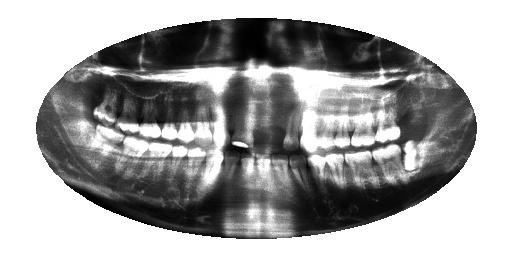i10chipped: (222, 148, 242, 199)
i11healthy: (202, 150, 225, 197)
i12healthy: (182, 145, 208, 202)
i13healthy: (164, 143, 190, 195)
i14healthy: (145, 141, 174, 191)
i15healthy: (119, 135, 150, 183)
i16healthy: (91, 125, 127, 172)
i1healthy: (398, 135, 453, 176)
i2healthy: (370, 142, 409, 189)
i3healthy: (342, 146, 385, 196)
i4healthy: (323, 150, 348, 195)
i5healthy: (305, 149, 329, 200)
i6decay: (287, 151, 312, 202)
i7decay: (269, 150, 294, 198)
i8healthy: (254, 149, 274, 200)
i9chipped: (239, 151, 258, 200)
u10healthy: (206, 94, 229, 154)
u11healthy: (189, 97, 214, 153)
u12healthy: (172, 93, 196, 146)
u13healthy: (157, 94, 180, 143)
u14healthy: (112, 91, 139, 140)
u15healthy: (135, 95, 162, 144)
u16decay: (92, 80, 118, 133)
u1healthy: (372, 91, 403, 146)
u2healthy: (347, 96, 376, 150)
u3healthy: (333, 100, 351, 153)
u4healthy: (313, 101, 336, 153)
u5healthy: (296, 100, 321, 157)
u6decay: (278, 103, 302, 153)
u7loss: (264, 93, 284, 155)
u8oss: (247, 97, 272, 155)
u9decay: (228, 98, 256, 156)
